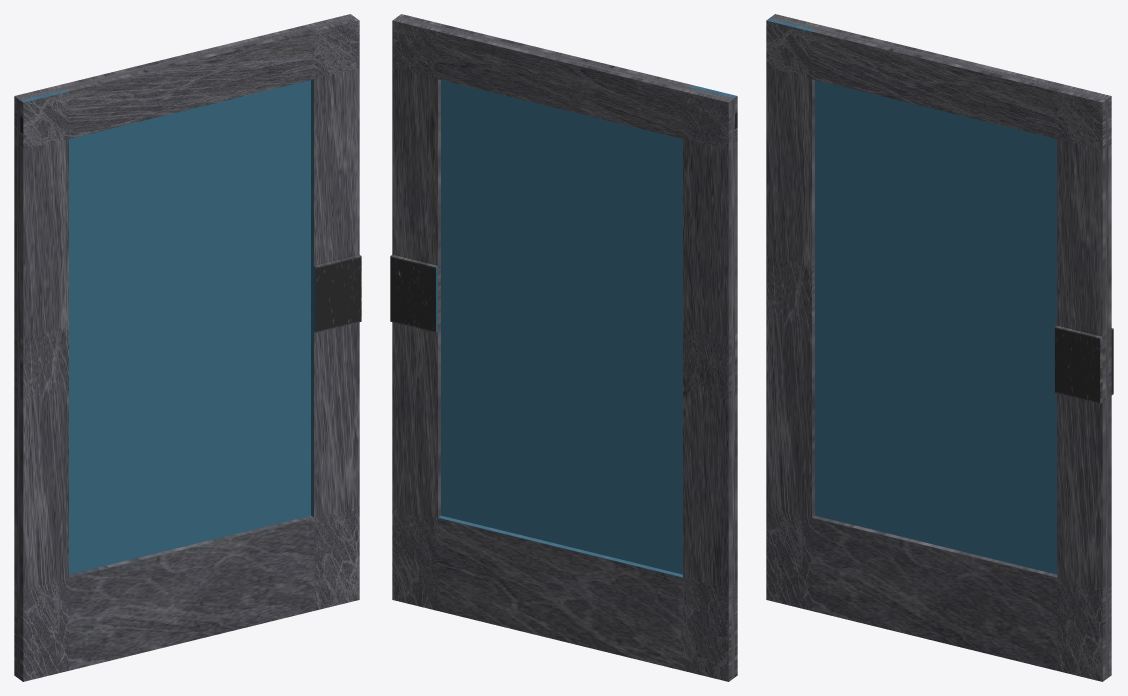
File: finaldoor.fbx
3 renders of one model, left to right at view 1: azimuth 30°, elevation 25°; view 2: azimuth 150°, elevation 25°; view 3: azimuth 330°, elevation 25°, orthographic.
Parts seen in each view (by area): view 1: door; view 2: door; view 3: door.
Boxes of the visible parts, x1=… form: door: x1=14, y1=14, x2=361, y2=681; door: x1=390, y1=14, x2=737, y2=681; door: x1=766, y1=14, x2=1113, y2=681.
Bounding box in the file's own units: 134 × 221 × 9.18.
Materials: 1 (1 with a texture image).
